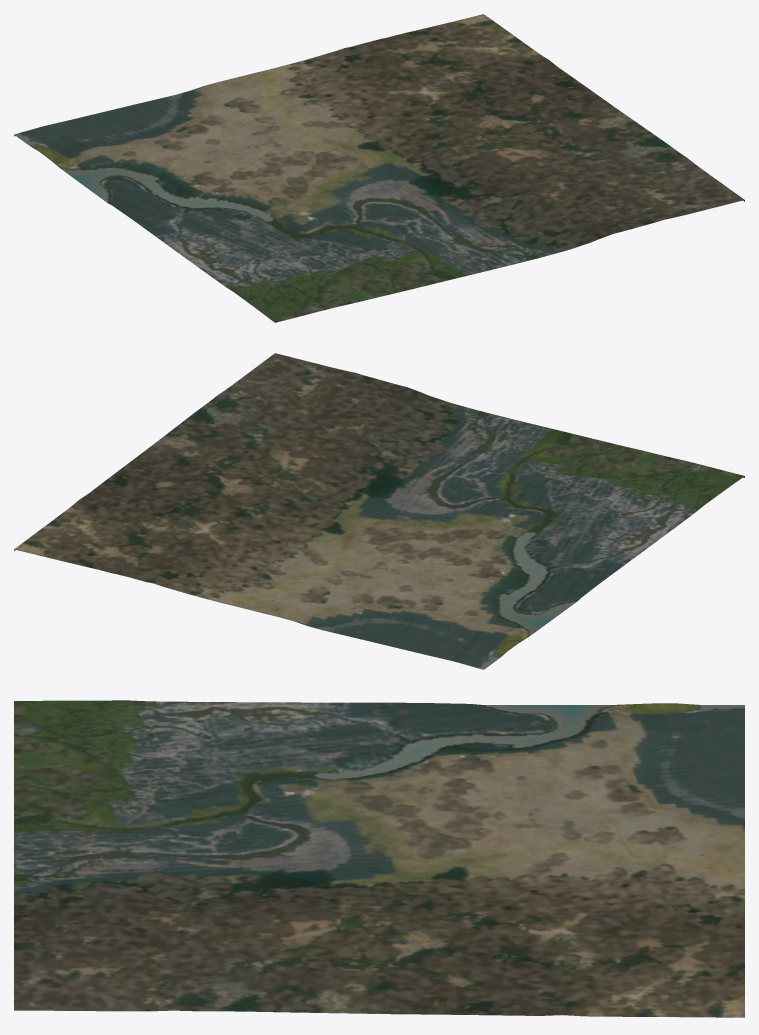
The picture shows the model from 3 angles, top to bottom: view 1: azimuth 30°, elevation 25°; view 2: azimuth 150°, elevation 25°; view 3: azimuth 270°, elevation 25°; orthographic projection. The views are drawn at different scales.
Size of the model in its own units: 250 by 6.69 by 241.
Materials: 1 (1 with a texture image).
